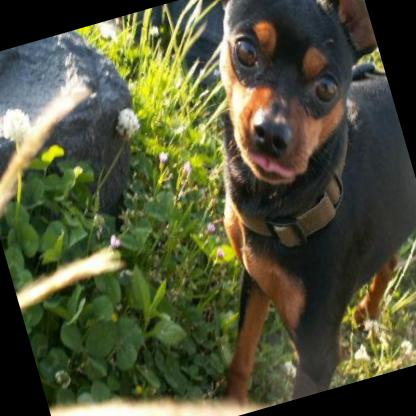miniature_pinscher: (108, 0, 416, 416)
